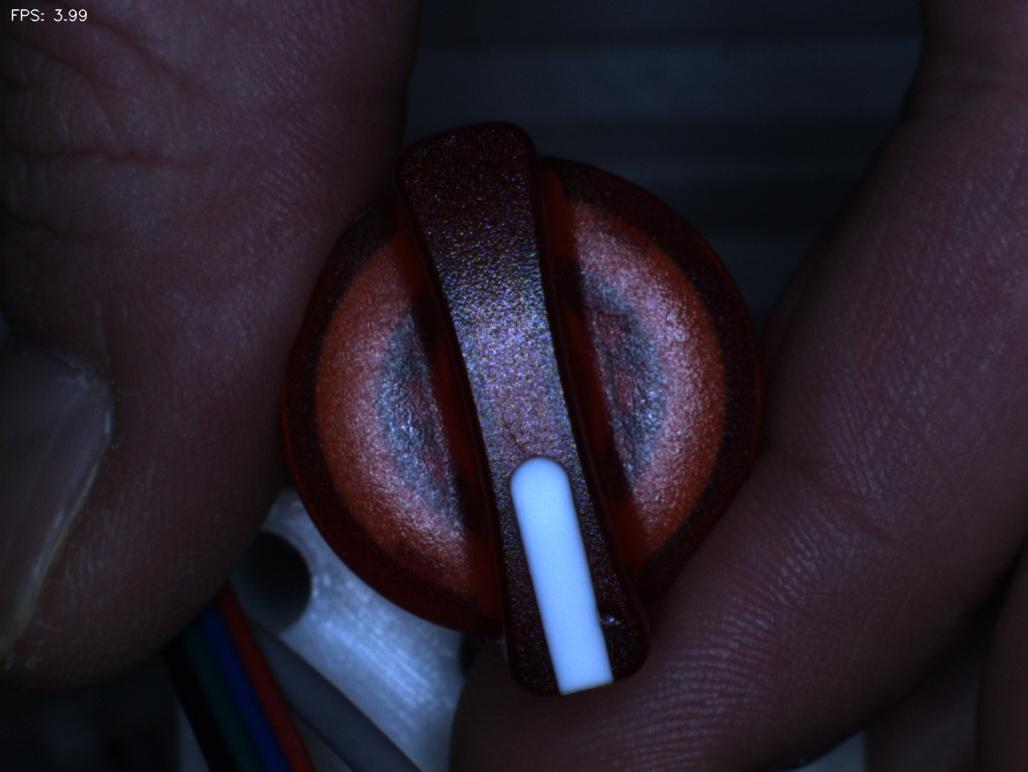Choc: (575, 573, 660, 659)
